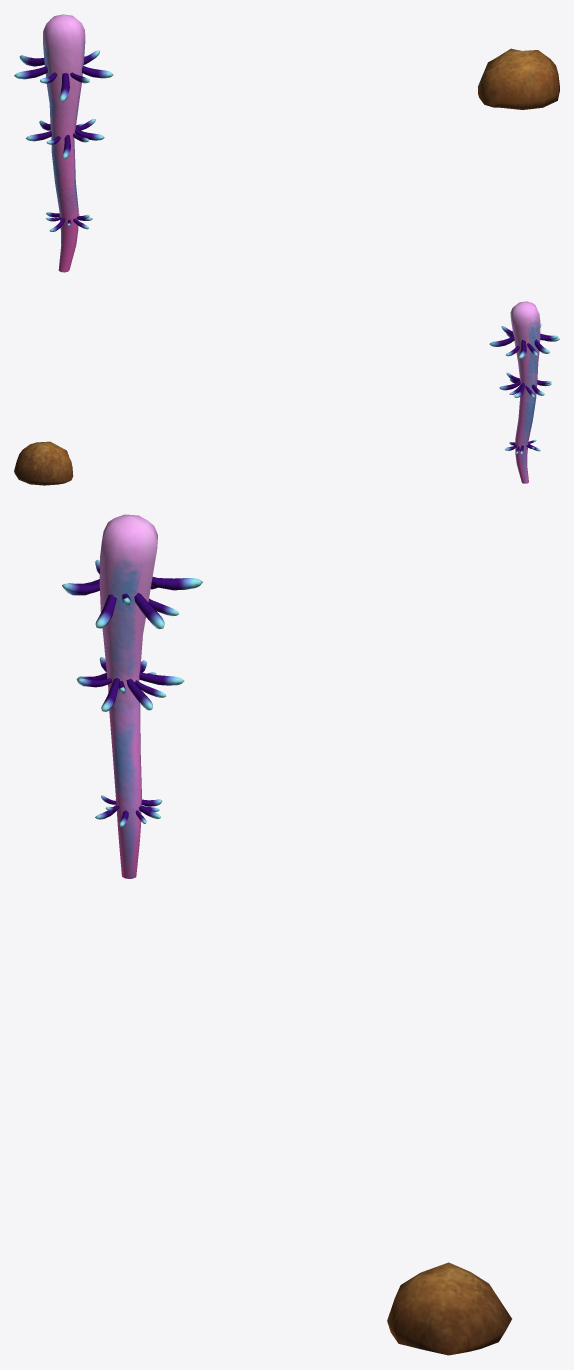
Rendered from Cartoon Seaweed_13-2-28.fbx.
3 renders of one model, top to bottom at view 1: azimuth 30°, elevation 25°; view 2: azimuth 150°, elevation 25°; view 3: azimuth 270°, elevation 25°, orthographic. The views are drawn at different scales.
Visible parts, largest first — view 1: Cartoon Seaweed_13.2.28; view 2: Cartoon Seaweed_13.2.28; view 3: Cartoon Seaweed_13.2.28.
Boxes of the visible parts, x1,y1,x2,y2 form: Cartoon Seaweed_13.2.28: [14, 14, 559, 272]; Cartoon Seaweed_13.2.28: [14, 301, 559, 485]; Cartoon Seaweed_13.2.28: [62, 514, 511, 1355].
Bounding box in the file's own units: 113 × 50.3 × 48.38.
1 material, 1 textured.
